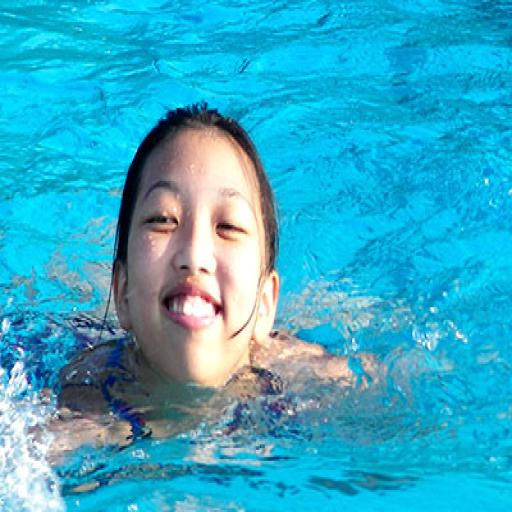swimming: (23, 98, 453, 496)
